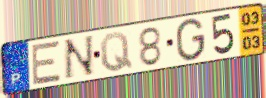5: (211, 12, 236, 56)
8: (137, 26, 163, 67)
E: (31, 39, 62, 87)
G: (175, 17, 206, 63)
N: (62, 33, 97, 82)
Q: (98, 31, 134, 74)
